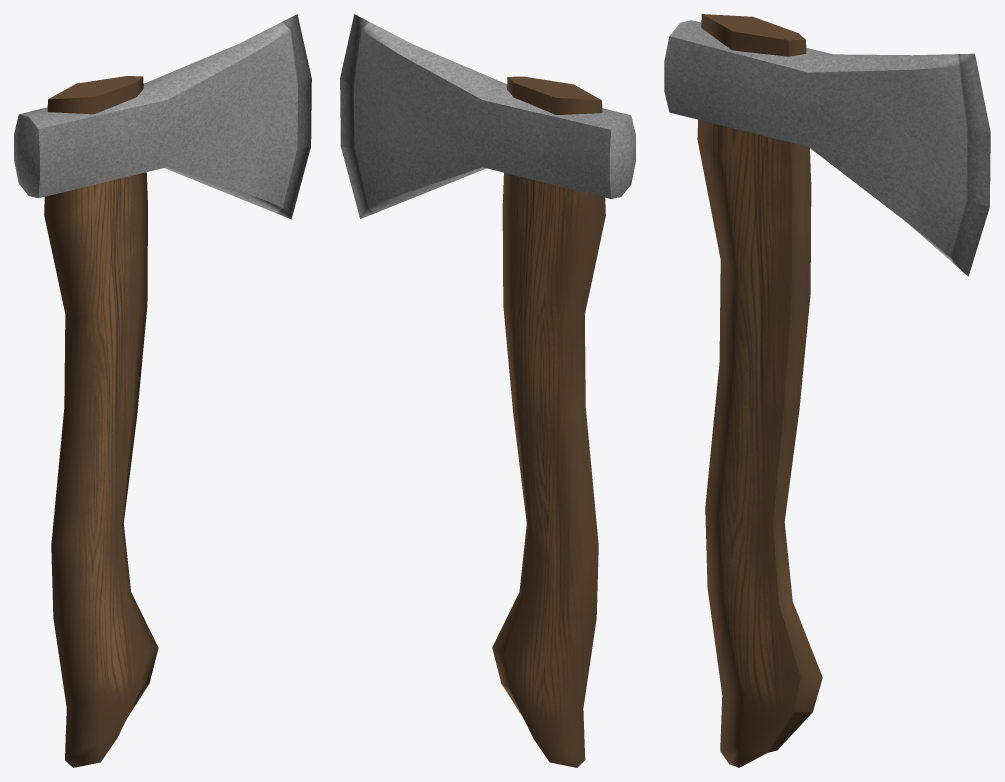
The model's file is Hatchet.fbx.
The picture shows the model from 3 angles, left to right: view 1: azimuth 30°, elevation 25°; view 2: azimuth 150°, elevation 25°; view 3: azimuth 330°, elevation 25°; orthographic projection. The views are drawn at different scales.
Parts seen in each view (by area): view 1: Axe; view 2: Axe; view 3: Axe.
Boxes of the visible parts, x1,y1,x2,y2 form: Axe: (14, 14, 311, 767); Axe: (340, 14, 635, 767); Axe: (664, 14, 990, 767).
Size of the model in its own units: 2.83 by 6.49 by 0.4373.
